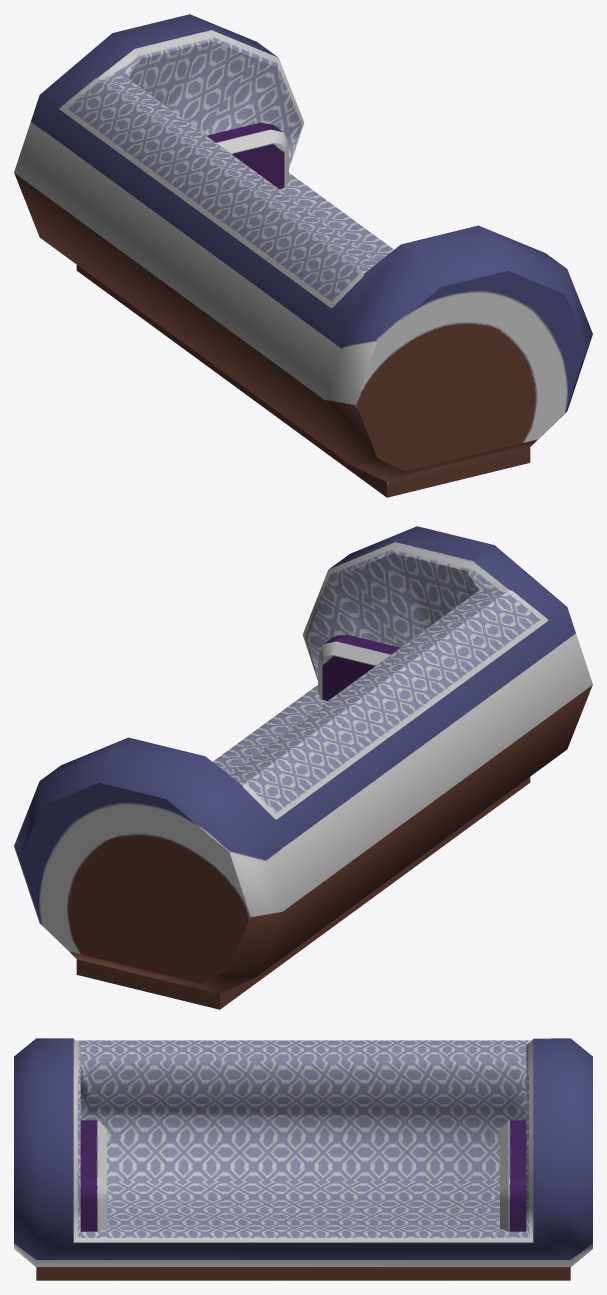
File: ModSofa.fbx
The picture shows the model from 3 angles, top to bottom: view 1: azimuth 30°, elevation 25°; view 2: azimuth 150°, elevation 25°; view 3: azimuth 270°, elevation 25°; orthographic projection. The views are drawn at different scales.
Parts seen in each view (by area): view 1: ModSofa; view 2: ModSofa; view 3: ModSofa.
Part boxes in pixels (x1,y1,x2,y2): ModSofa: (14,14,592,497); ModSofa: (14,526,592,1009); ModSofa: (14,1038,592,1280).
Bounding box in the file's own units: 3 × 2.44 × 6.5.
Materials: 1 (1 with a texture image).
